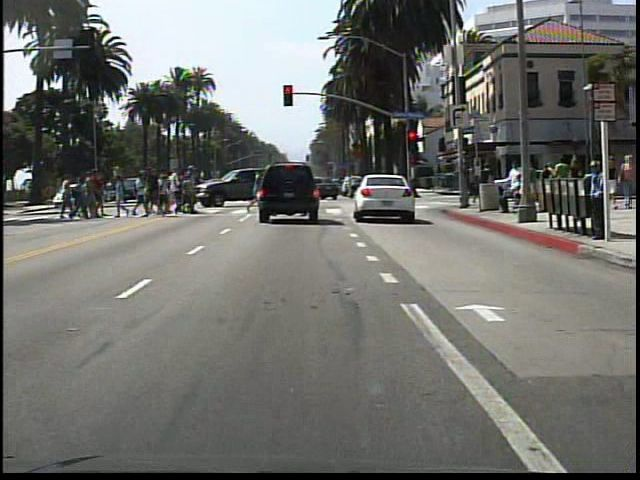person: (582, 156, 606, 241), (617, 151, 635, 212), (608, 152, 619, 209)
